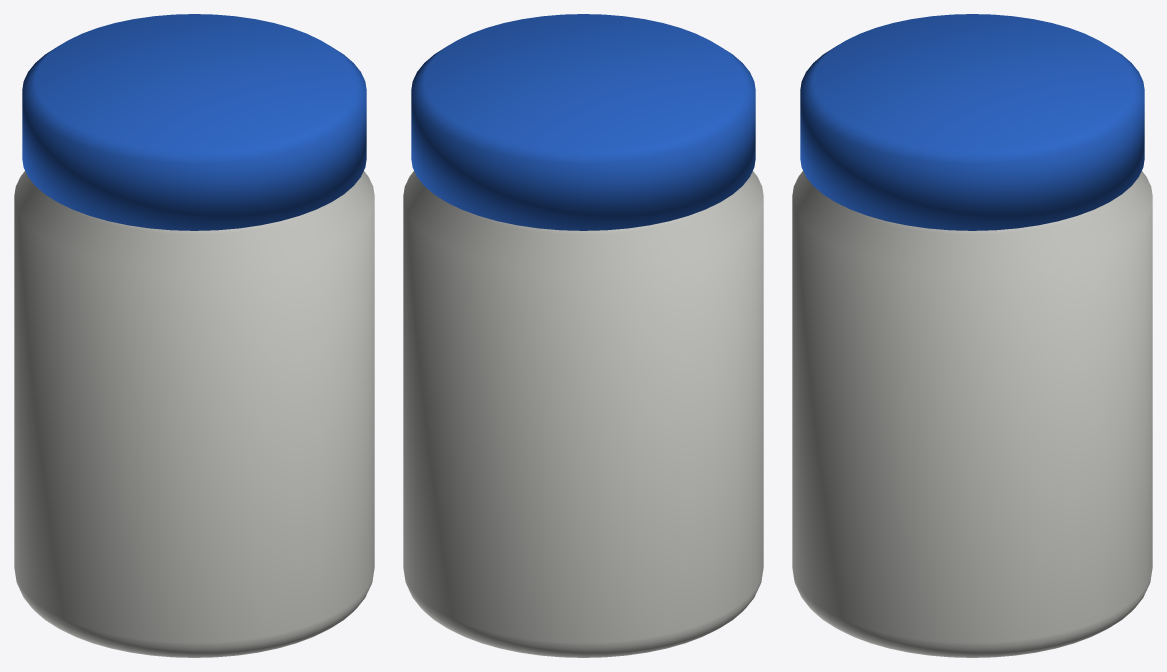
File: SM_ReagentJar_250.glb
3 views of the same model, side by side, from view 1: azimuth 30°, elevation 25°; view 2: azimuth 150°, elevation 25°; view 3: azimuth 270°, elevation 25° (orthographic).
Parts seen in each view (by area): view 1: SM_ReagentJar_250; view 2: SM_ReagentJar_250; view 3: SM_ReagentJar_250.
Part boxes in pixels (x1,y1,x2,y2): SM_ReagentJar_250: (14, 14, 374, 657); SM_ReagentJar_250: (403, 14, 763, 657); SM_ReagentJar_250: (792, 14, 1152, 657).
Bounding box in the file's own units: 0.068 × 0.106 × 0.068.
